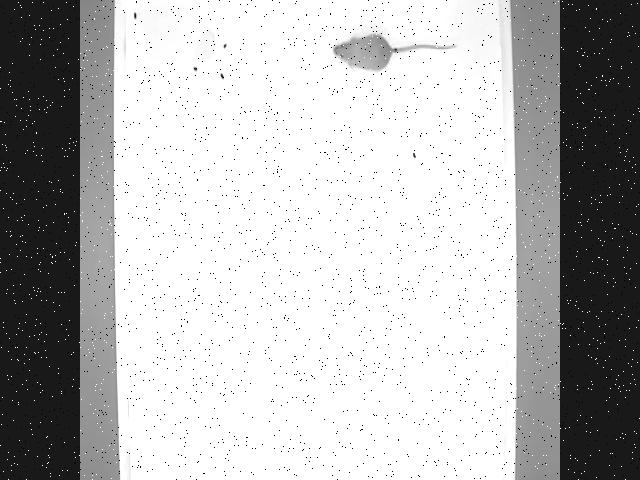Tikus: (331, 32, 456, 72)
